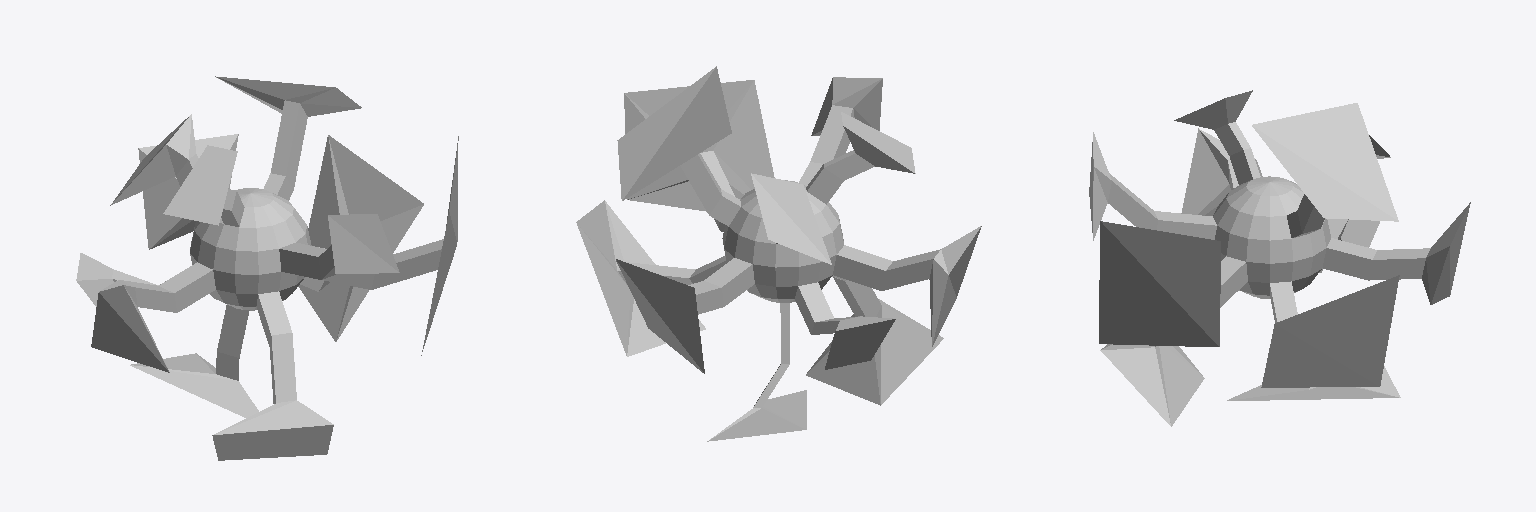
File: dark_bramble_hologram.obj
3 renders of one model, left to right at view 1: azimuth 30°, elevation 25°; view 2: azimuth 150°, elevation 25°; view 3: azimuth 270°, elevation 25°, orthographic.
Parts seen in each view (by area): view 1: Sphere.001; view 2: Sphere.001; view 3: Sphere.001.
Part boxes in pixels (bbox=[...]): Sphere.001: bbox=[76, 76, 458, 460]; Sphere.001: bbox=[576, 66, 981, 441]; Sphere.001: bbox=[1089, 90, 1470, 426].
Bounding box in the file's own units: 1.62 × 1.46 × 1.55.